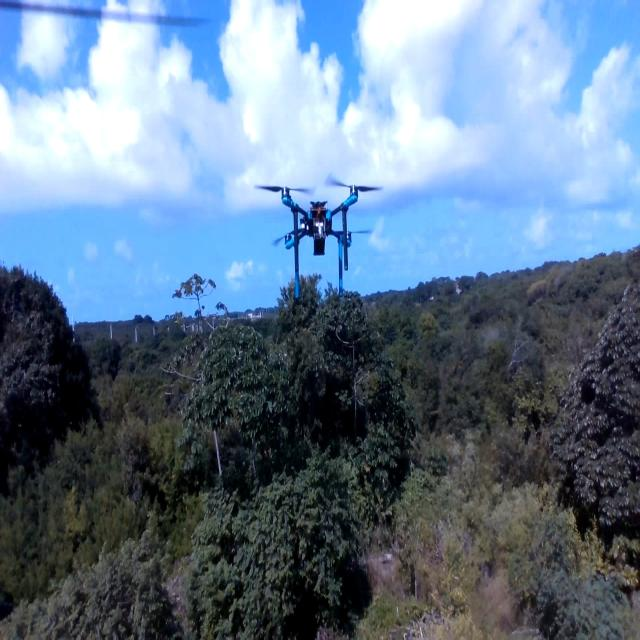-uav-: (247, 156, 384, 318)
